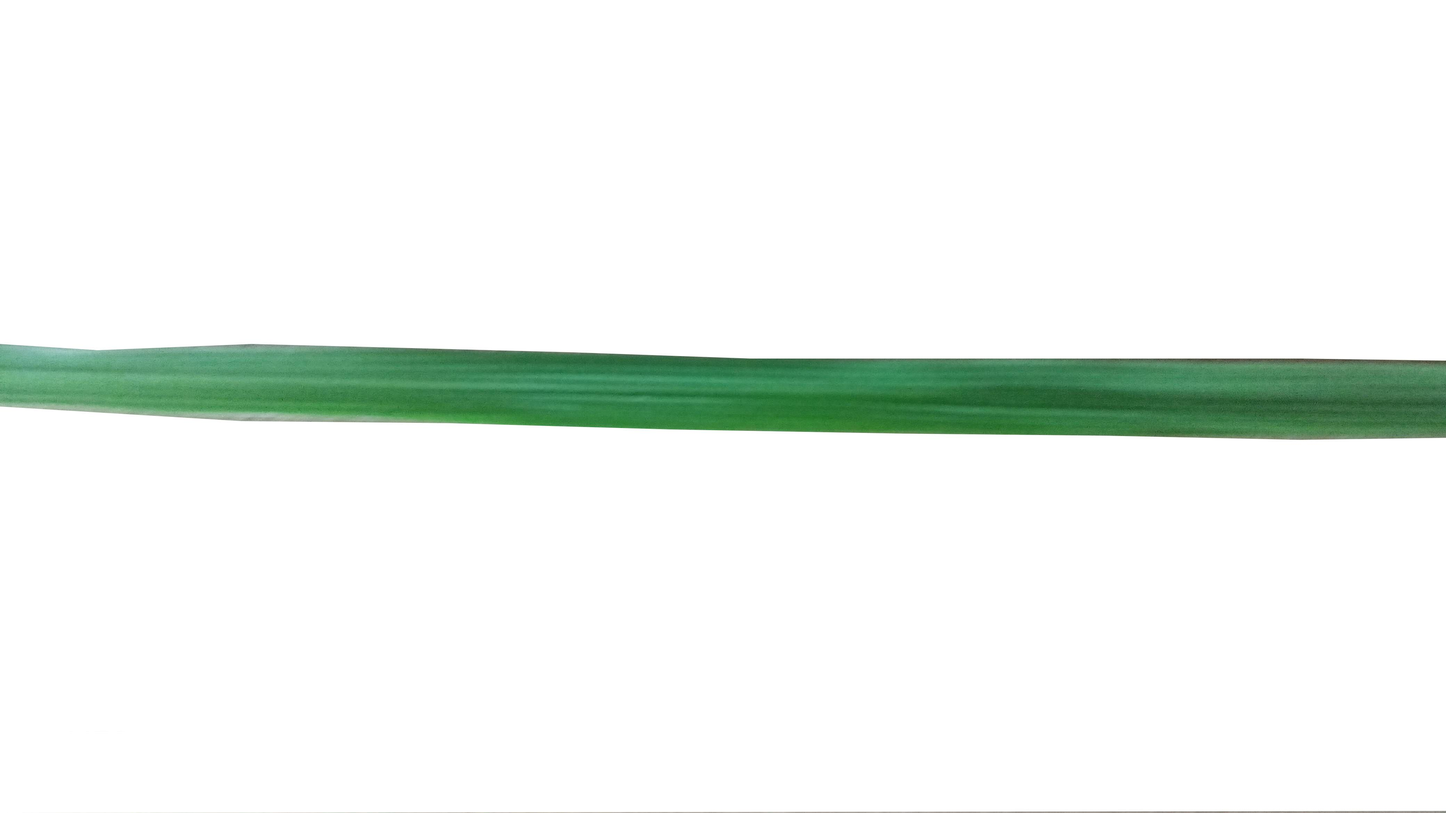Healthy: (0, 339, 1446, 437)
